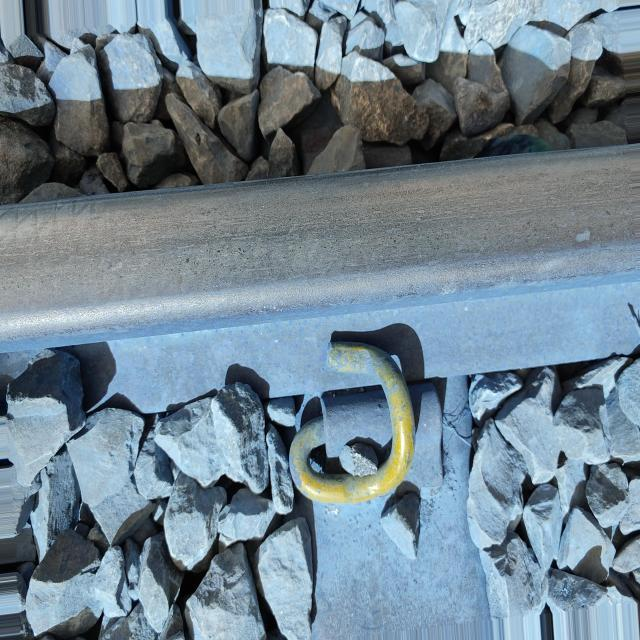Good Fasteners: (253, 317, 482, 551)
